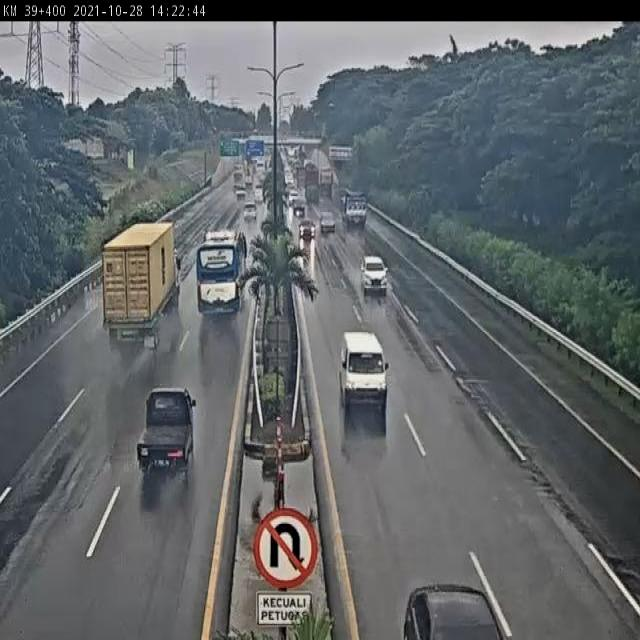Bus: (195, 220, 245, 326)
Car: (124, 386, 198, 500), (394, 577, 503, 640), (364, 237, 396, 296)
Truck: (96, 215, 172, 343)
Van: (338, 326, 392, 427)
